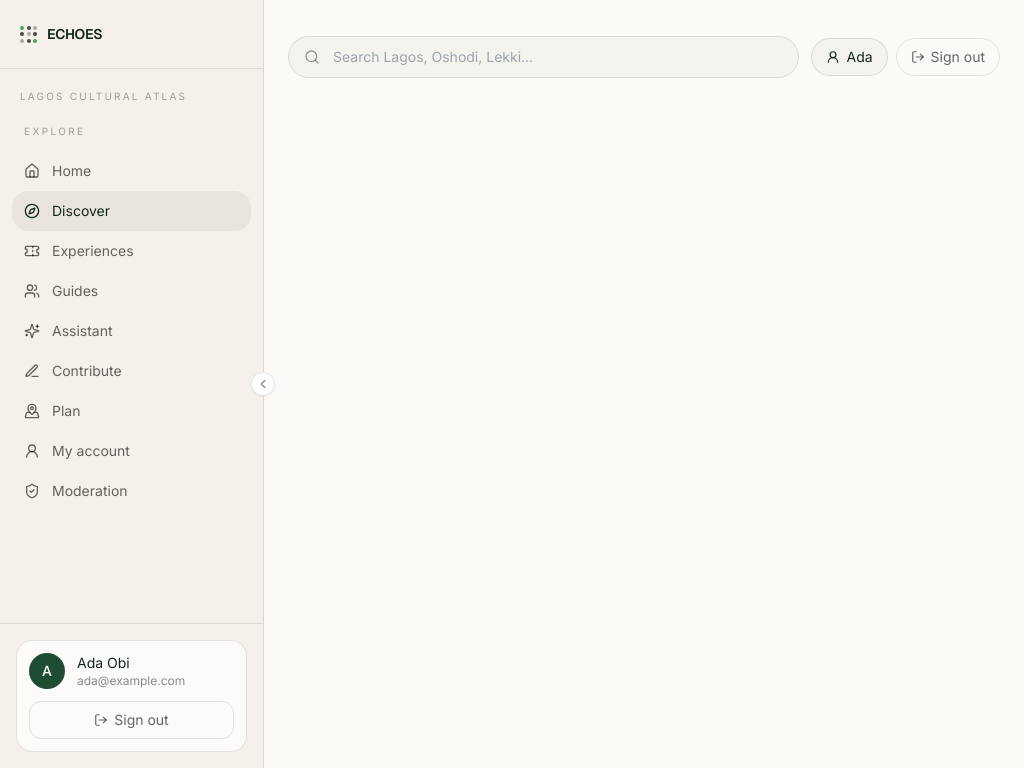
Test: where the rail belongs › shows who is signed in, and signs out from the footer rather than the links
The image size is (1024, 768).
Expected: the text "Ada Obi" is shown, [77,654,130,671]
Expected: the text "ada@example.com" is shown, [77,673,185,689]
Step 1. Click the button "Sign out" below "ada@example.com" → (132, 720), box [29,701,234,739]
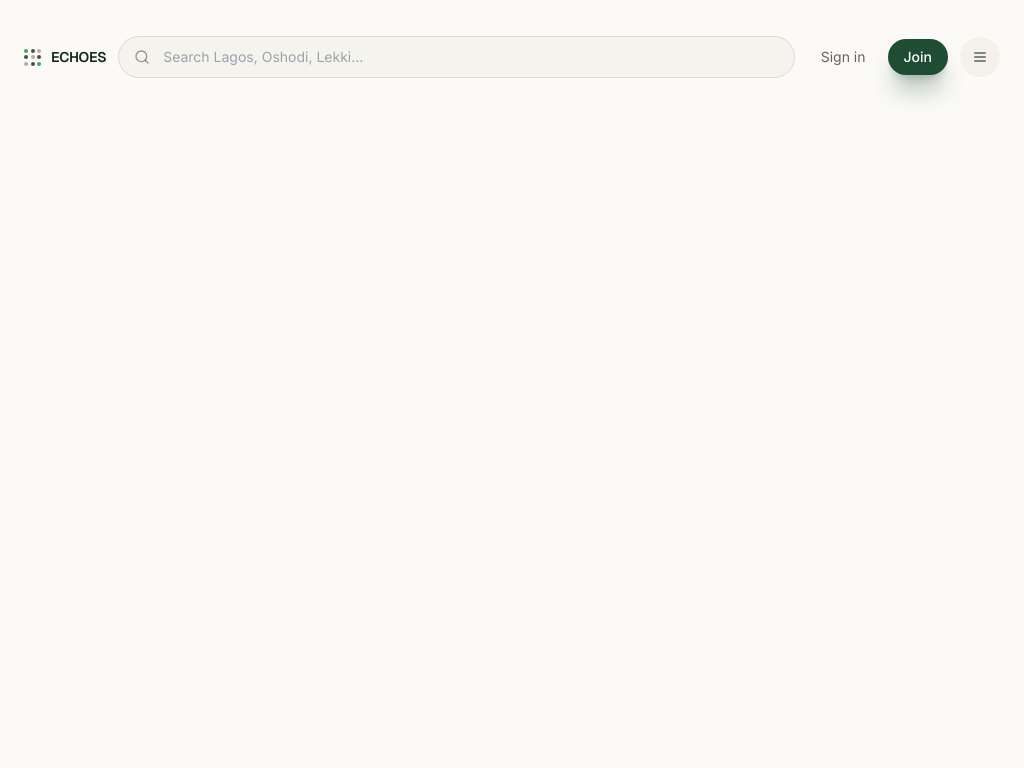
Expected: the button with id "site-rail" is gone
